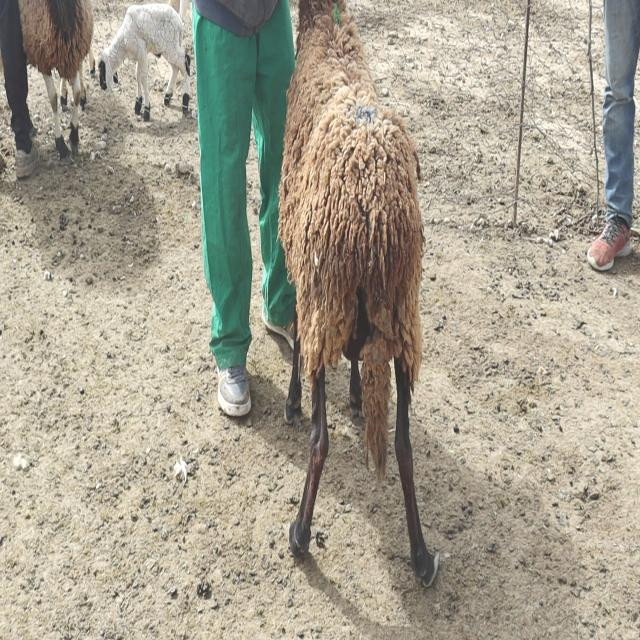Score_1: (279, 0, 439, 586)
